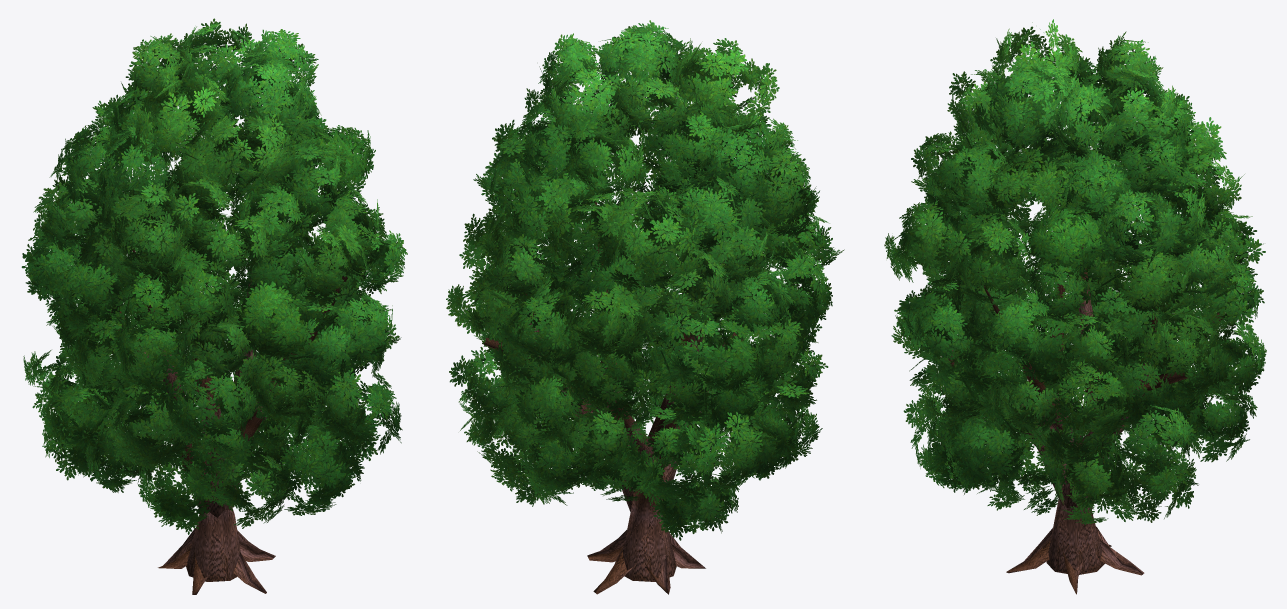
File: mm6_deco_tree10.glb
3 views of the same model, side by side, from view 1: azimuth 30°, elevation 25°; view 2: azimuth 150°, elevation 25°; view 3: azimuth 270°, elevation 25° (orthographic).
Visible parts, largest first — view 1: Tree; view 2: Tree; view 3: Tree.
Boxes of the visible parts, x1,y1,x2,y2 form: Tree: (21,18,407,594); Tree: (446,20,844,594); Tree: (884,19,1266,594).
Size of the model in its own units: 5.25 by 7.5 by 5.1.
2 materials, 2 textured.
